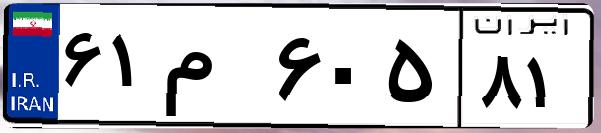0: (330, 28, 385, 110)
1: (525, 38, 570, 115), (110, 28, 158, 98)
5: (385, 28, 445, 110)
6: (270, 28, 330, 110), (57, 26, 110, 100)
8: (475, 38, 525, 113)
م: (158, 20, 270, 120)
